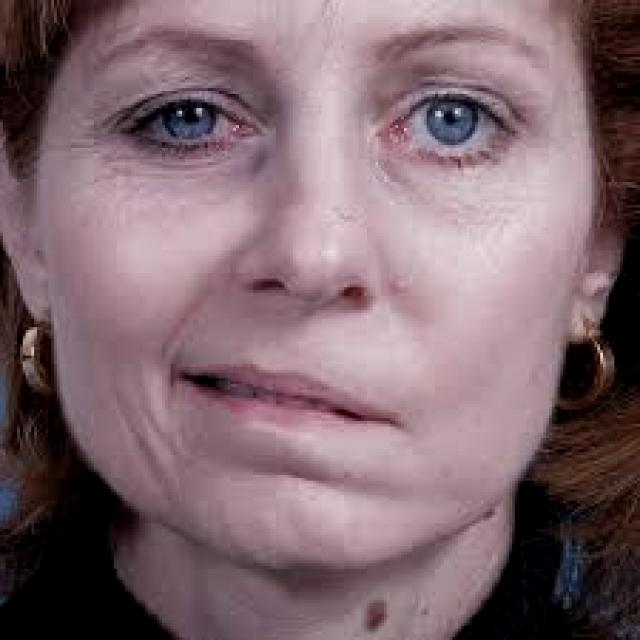stroke_face: (0, 26, 564, 586)
